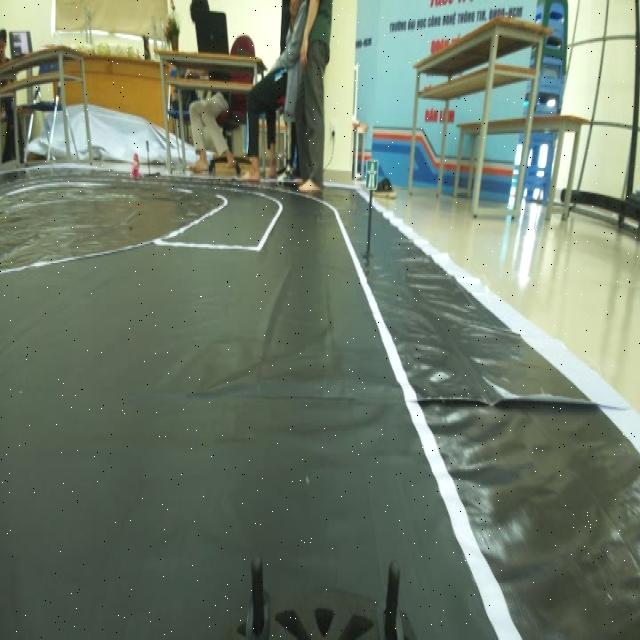highway_entry: (361, 146, 381, 208)
